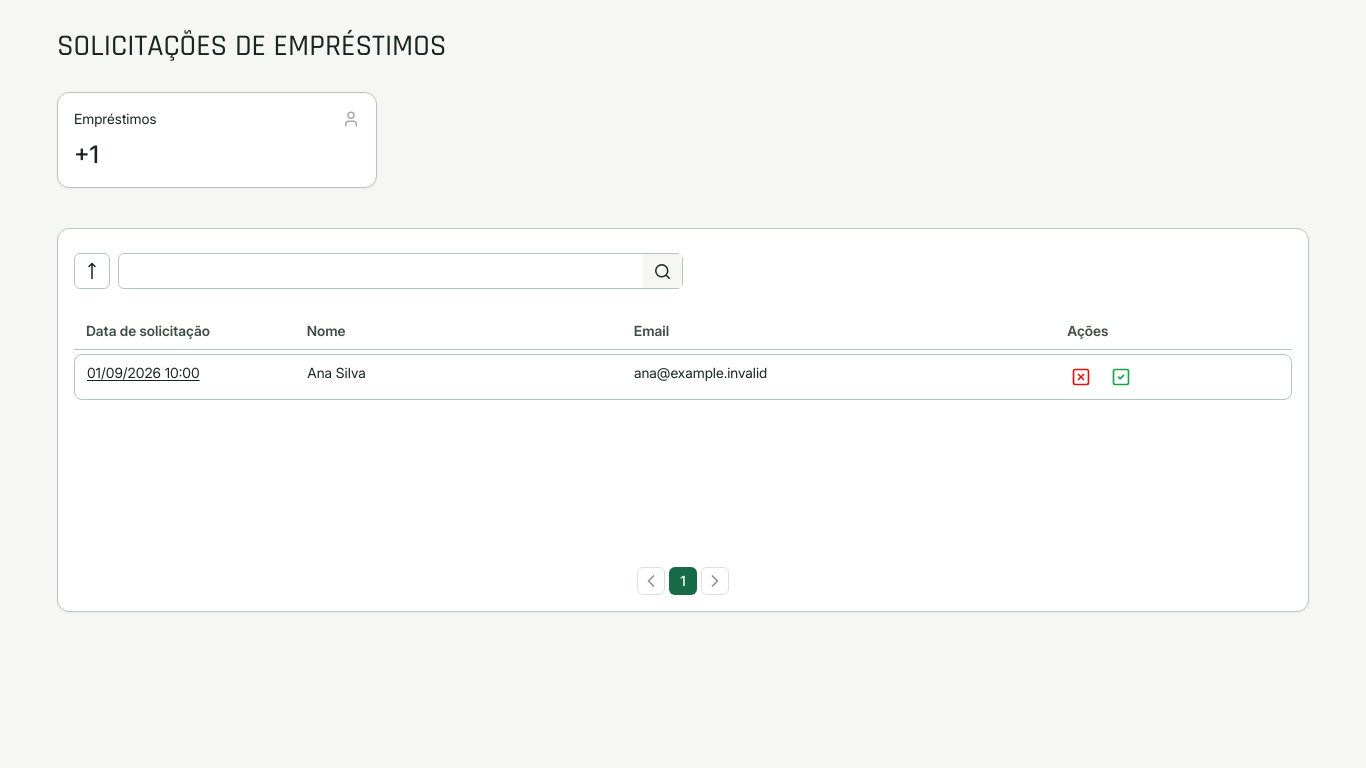
it: LoansRequest: decisoes criticas › nao envia uma segunda decisao enquanto a primeira esta pendente
Click the button named "Aprovar Ana Silva" at [1121, 377], box [1107, 363, 1135, 391]
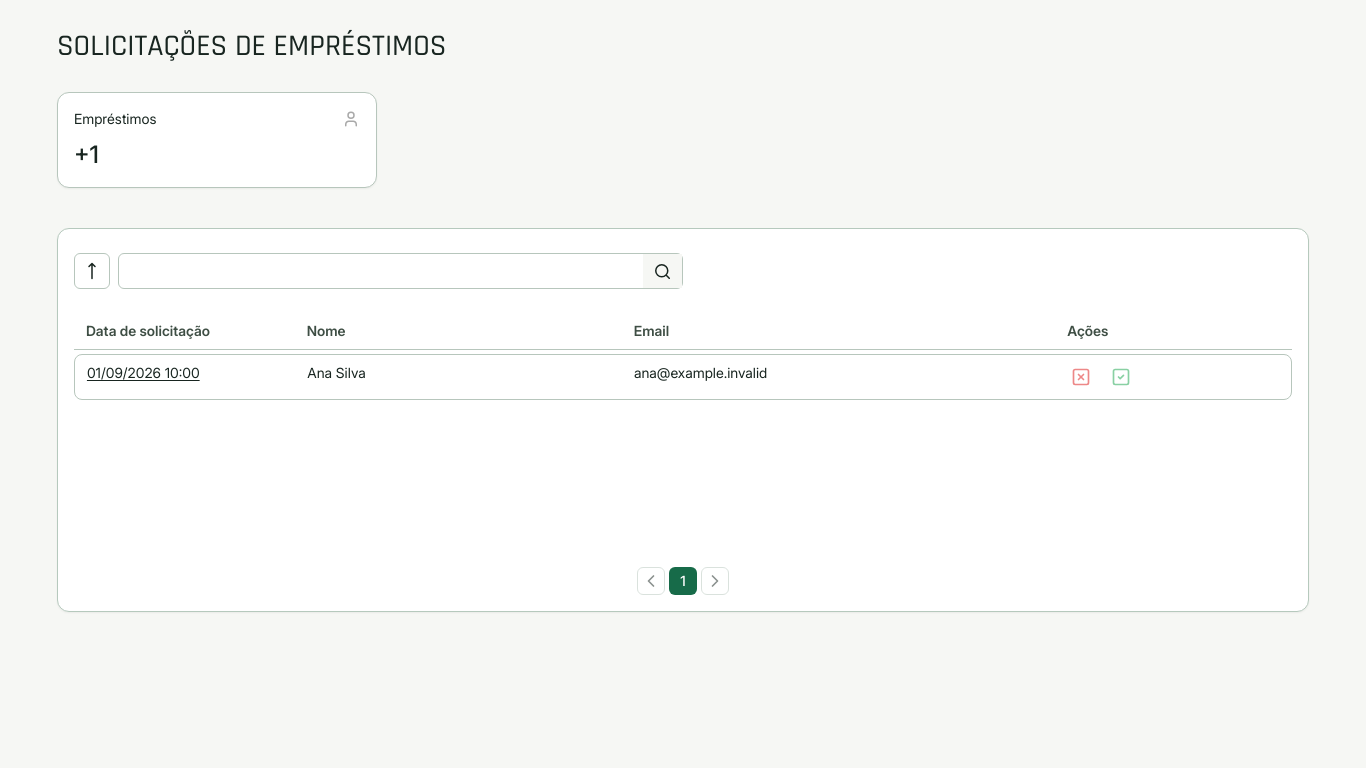
Result: the button named "Aprovar Ana Silva" is disabled
Click the button named "Aprovar Ana Silva" at [1121, 377], box [1107, 363, 1135, 391]
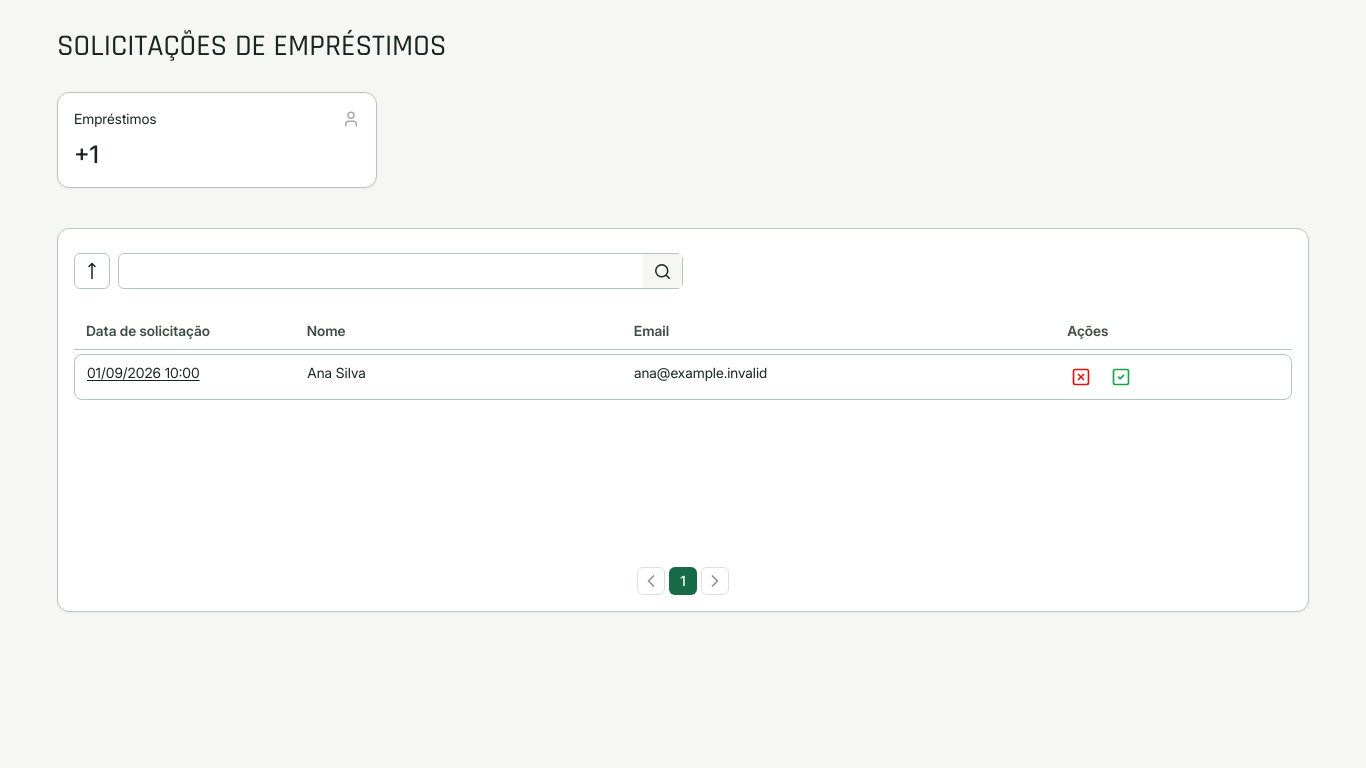
Expected: the text "Ana Silva" is shown, [307, 364, 366, 381]
Result: the button named "Aprovar Ana Silva" is enabled at [1107, 363, 1135, 391]
